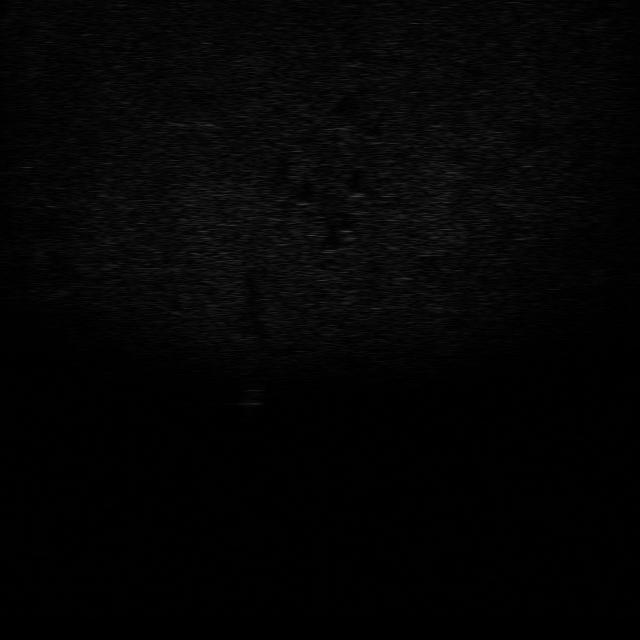human body: (232, 382, 266, 428)
